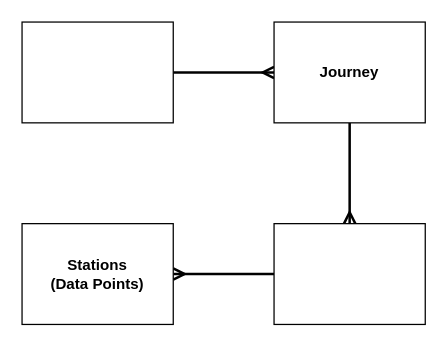
The diagram is 447 pixels wide and 347 high, and some of its shapes have lost their labels. Each missing label, with the centre of its shape:
Services: (x=349, y=273)
User: (x=97, y=72)
